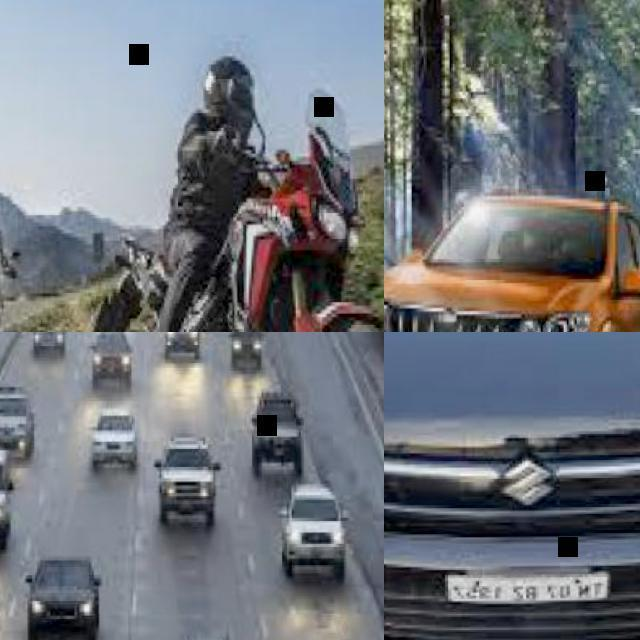car: (279, 487, 347, 583), (24, 558, 103, 636), (155, 442, 217, 531), (93, 414, 137, 472)
